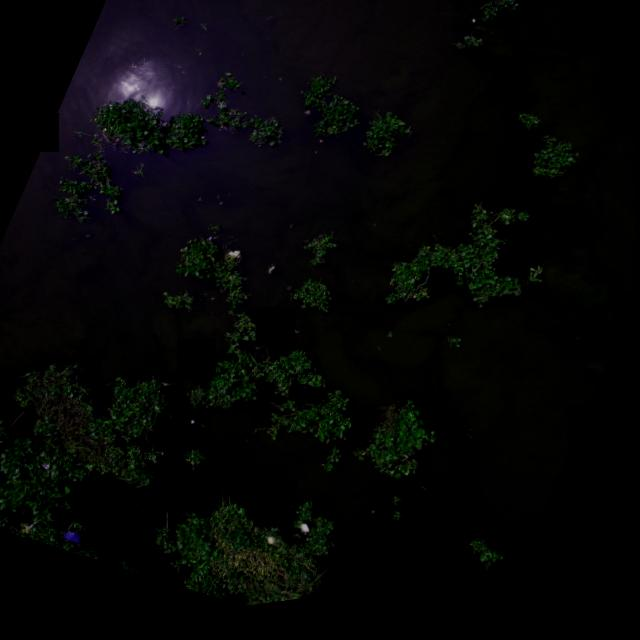plastic: (59, 525, 93, 552), (221, 244, 250, 275), (31, 454, 59, 479), (298, 525, 318, 545), (263, 265, 281, 287), (265, 537, 283, 556), (463, 25, 481, 42), (28, 515, 44, 534), (402, 461, 413, 473), (303, 114, 314, 126), (189, 422, 199, 433), (446, 3, 456, 14), (442, 0, 453, 9), (371, 516, 380, 526), (317, 145, 326, 153)
